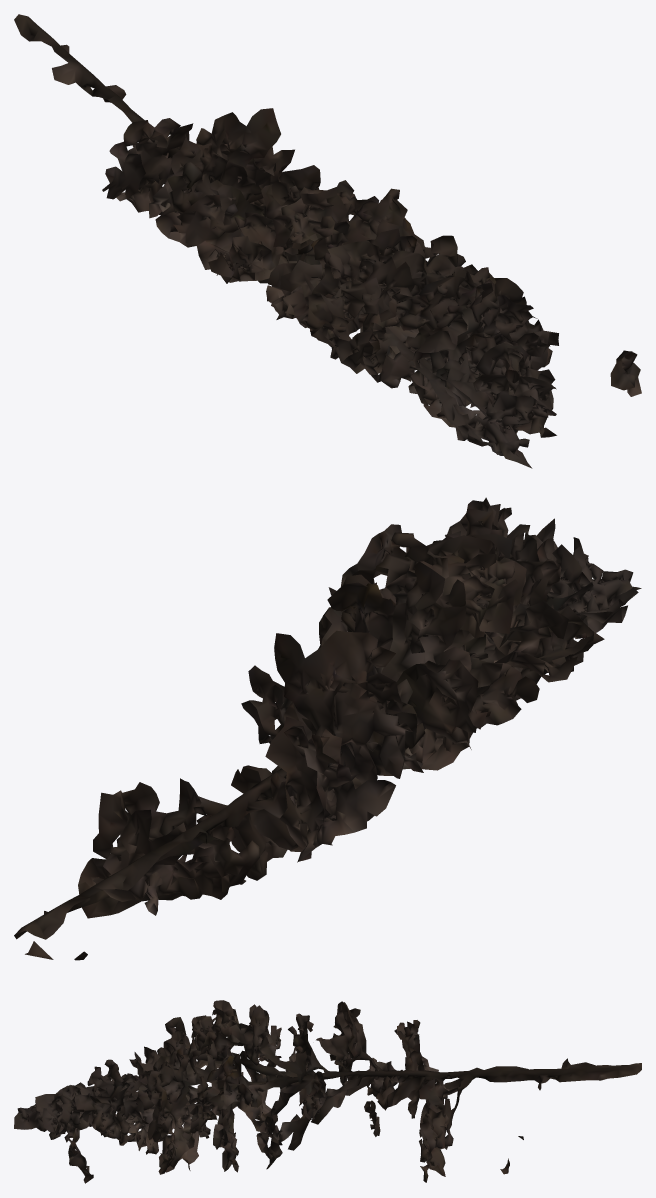
Rendered from tree_mesh.dae.
3 views of the same model, one above another, from view 1: azimuth 30°, elevation 25°; view 2: azimuth 150°, elevation 25°; view 3: azimuth 270°, elevation 25° (orthographic). The views are drawn at different scales.
Visible parts, largest first — view 1: node0; view 2: node0; view 3: node0.
Boxes of the visible parts, box(x1,y1,x2,y2) form: node0: box(14, 14, 641, 468); node0: box(14, 497, 641, 960); node0: box(14, 1000, 641, 1183).
Size of the model in its own units: 9.46 by 6.32 by 27.01.
